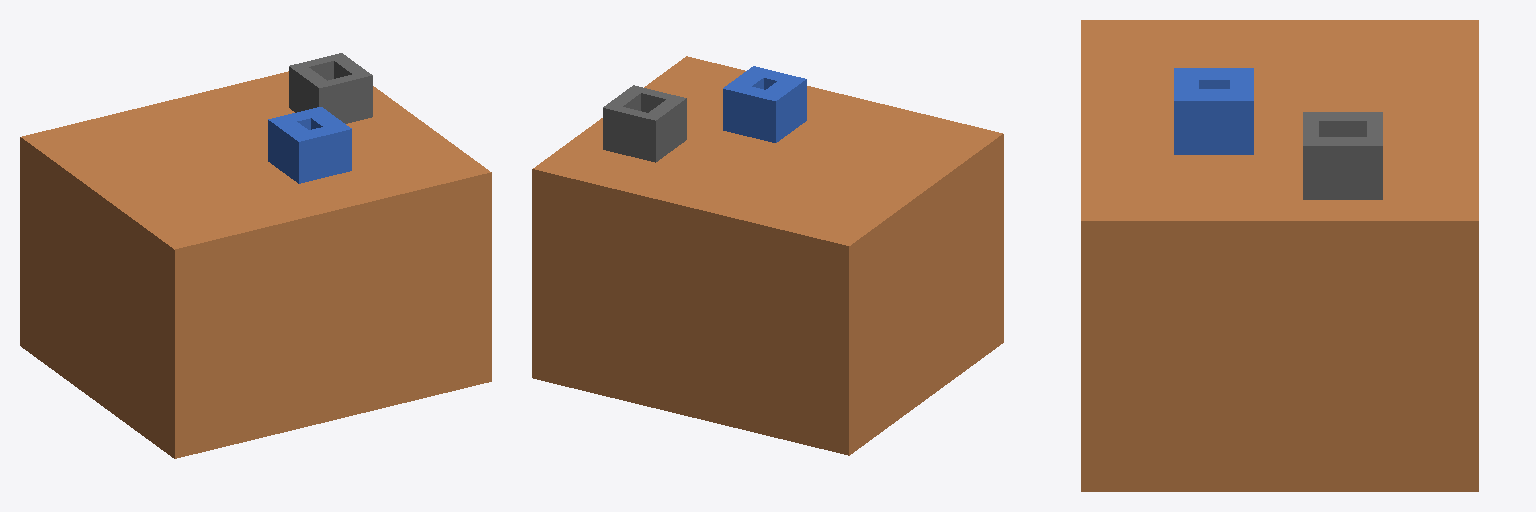
URDF robot description (peg_in_hole_fixtured_scene_0027_peg0016_tol04):
<?xml version="1.0"?>
<robot name="peg_in_hole_fixtured_scene_0027_peg0016_tol04">
  <material name="wood"><color rgba="0.82 0.56 0.35 1.0"/></material>
  <material name="start_fix"><color rgba="0.30 0.50 0.85 1.0"/></material>
  <material name="goal_fix"><color rgba="0.4706 0.4706 0.4706 1.0"/></material>
  <link name="box">
    <visual>
      <origin xyz="0.000000 0.000000 0.000000" rpy="0 0 0"/>
      <geometry><box size="0.475000 0.400000 0.300000"/></geometry>
      <material name="wood"/>
    </visual>
    <collision>
      <origin xyz="0.000000 0.000000 0.000000" rpy="0 0 0"/>
      <geometry><box size="0.475000 0.400000 0.300000"/></geometry>
    </collision>
    <visual>
      <origin xyz="0.043042 -0.065882 0.155000" rpy="0 0 0"/>
      <geometry><box size="0.080000 0.080000 0.010000"/></geometry>
      <material name="start_fix"/>
    </visual>
    <collision>
      <origin xyz="0.043042 -0.065882 0.155000" rpy="0 0 0"/>
      <geometry><box size="0.080000 0.080000 0.010000"/></geometry>
    </collision>
    <visual>
      <origin xyz="0.068292 -0.065882 0.185000" rpy="0 0 0"/>
      <geometry><box size="0.029500 0.080000 0.050000"/></geometry>
      <material name="start_fix"/>
    </visual>
    <collision>
      <origin xyz="0.068292 -0.065882 0.185000" rpy="0 0 0"/>
      <geometry><box size="0.029500 0.080000 0.050000"/></geometry>
    </collision>
    <visual>
      <origin xyz="0.017792 -0.065882 0.185000" rpy="0 0 0"/>
      <geometry><box size="0.029500 0.080000 0.050000"/></geometry>
      <material name="start_fix"/>
    </visual>
    <collision>
      <origin xyz="0.017792 -0.065882 0.185000" rpy="0 0 0"/>
      <geometry><box size="0.029500 0.080000 0.050000"/></geometry>
    </collision>
    <visual>
      <origin xyz="0.043042 -0.038132 0.185000" rpy="0 0 0"/>
      <geometry><box size="0.021000 0.024500 0.050000"/></geometry>
      <material name="start_fix"/>
    </visual>
    <collision>
      <origin xyz="0.043042 -0.038132 0.185000" rpy="0 0 0"/>
      <geometry><box size="0.021000 0.024500 0.050000"/></geometry>
    </collision>
    <visual>
      <origin xyz="0.043042 -0.093632 0.185000" rpy="0 0 0"/>
      <geometry><box size="0.021000 0.024500 0.050000"/></geometry>
      <material name="start_fix"/>
    </visual>
    <collision>
      <origin xyz="0.043042 -0.093632 0.185000" rpy="0 0 0"/>
      <geometry><box size="0.021000 0.024500 0.050000"/></geometry>
    </collision>
    <visual>
      <origin xyz="0.148422 0.063166 0.155000" rpy="0 0 0"/>
      <geometry><box size="0.080000 0.080000 0.010000"/></geometry>
      <material name="goal_fix"/>
    </visual>
    <collision>
      <origin xyz="0.148422 0.063166 0.155000" rpy="0 0 0"/>
      <geometry><box size="0.080000 0.080000 0.010000"/></geometry>
    </collision>
    <visual>
      <origin xyz="0.178000 0.063166 0.185000" rpy="0 0 0"/>
      <geometry><box size="0.020845 0.080000 0.050000"/></geometry>
      <material name="goal_fix"/>
    </visual>
    <collision>
      <origin xyz="0.178000 0.063166 0.185000" rpy="0 0 0"/>
      <geometry><box size="0.020845 0.080000 0.050000"/></geometry>
    </collision>
    <visual>
      <origin xyz="0.118845 0.063166 0.185000" rpy="0 0 0"/>
      <geometry><box size="0.020845 0.080000 0.050000"/></geometry>
      <material name="goal_fix"/>
    </visual>
    <collision>
      <origin xyz="0.118845 0.063166 0.185000" rpy="0 0 0"/>
      <geometry><box size="0.020845 0.080000 0.050000"/></geometry>
    </collision>
    <visual>
      <origin xyz="0.148422 0.095244 0.185000" rpy="0 0 0"/>
      <geometry><box size="0.038311 0.015845 0.050000"/></geometry>
      <material name="goal_fix"/>
    </visual>
    <collision>
      <origin xyz="0.148422 0.095244 0.185000" rpy="0 0 0"/>
      <geometry><box size="0.038311 0.015845 0.050000"/></geometry>
    </collision>
    <visual>
      <origin xyz="0.148422 0.031088 0.185000" rpy="0 0 0"/>
      <geometry><box size="0.038311 0.015845 0.050000"/></geometry>
      <material name="goal_fix"/>
    </visual>
    <collision>
      <origin xyz="0.148422 0.031088 0.185000" rpy="0 0 0"/>
      <geometry><box size="0.038311 0.015845 0.050000"/></geometry>
    </collision>
    <inertial>
      <mass value="500"/>
      <friction value="1.0"/>
      <inertia ixx="1000.0" ixy="0.0" ixz="0.0" iyy="1000.0" iyz="0.0" izz="1000.0"/>
    </inertial>
  </link>
</robot>

--- What the picture shows (computed from the rendered views, not written in the file) ---
3 views of the same robot in one strip: view 1: azimuth 30°, elevation 25°; view 2: azimuth 150°, elevation 25°; view 3: azimuth 270°, elevation 25° (orthographic).
Robot: peg_in_hole_fixtured_scene_0027_peg0016_tol04 — 1 links, 0 joints (none); root link box; default pose: all joints at 0.
Links seen in each view (by area): view 1: box; view 2: box; view 3: box.
Link boxes in pixels (x1,y1,x2,y2): box: [20, 53, 491, 458]; box: [532, 56, 1003, 455]; box: [1081, 20, 1478, 491].
Bounding box of the posed robot: 0.475 × 0.4 × 0.36 m (x, y, z).
Geometry: primitives only (box / cylinder / sphere), no mesh files.
